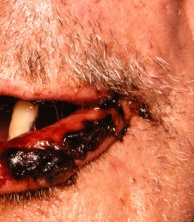SJS-TEN: (0, 57, 183, 222)
